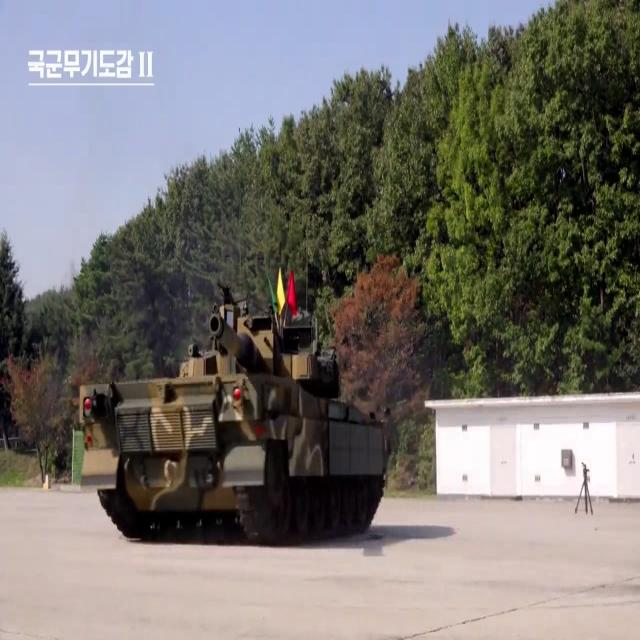korea tank: (81, 281, 391, 544)
